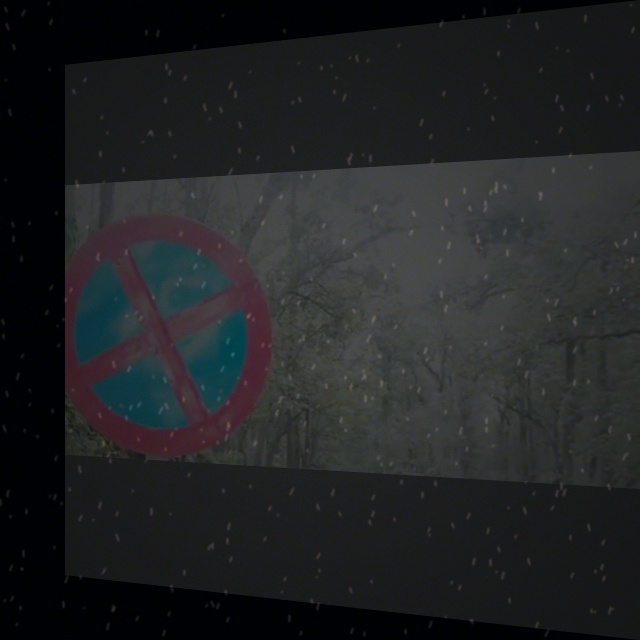No_Stopping_or_Standing: (74, 225, 262, 436)
